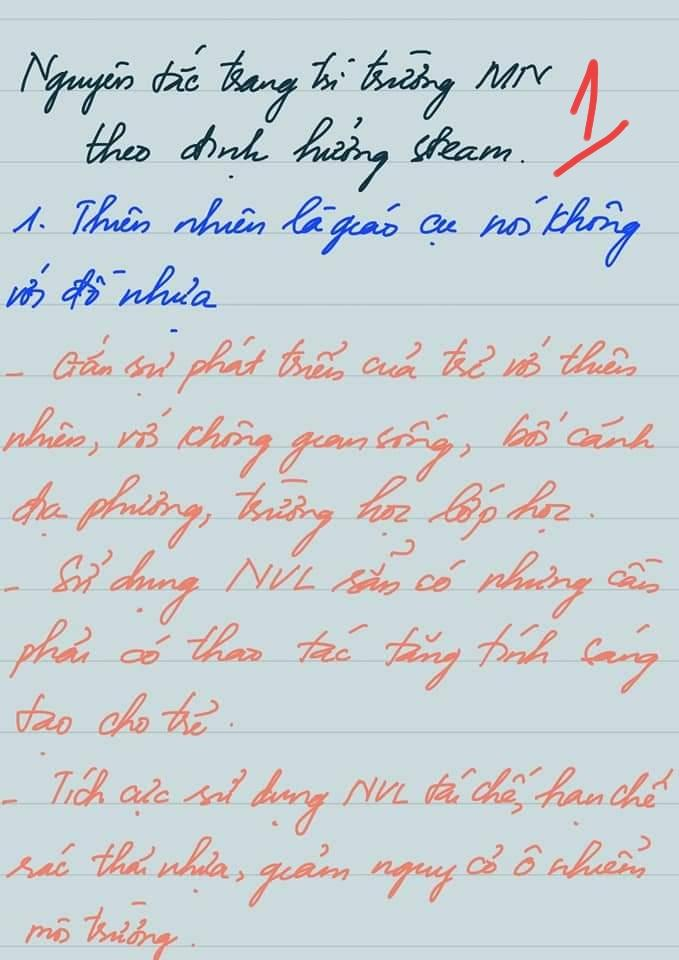text: (3, 759, 674, 843), (3, 827, 655, 913), (0, 468, 598, 560), (0, 401, 662, 484), (6, 615, 664, 697), (1, 548, 664, 628), (6, 190, 645, 273), (10, 36, 558, 128), (1, 331, 641, 400), (79, 110, 528, 195), (1, 259, 223, 336), (13, 688, 238, 761), (22, 896, 199, 960), (548, 54, 632, 185)
